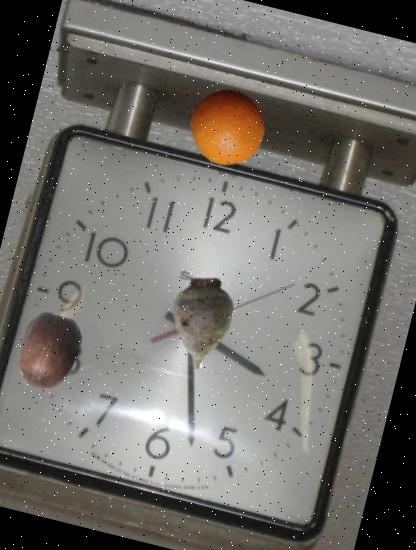Beetroot: (144, 266, 262, 384)
Nut: (0, 303, 97, 401)
Orange: (181, 80, 276, 175)
